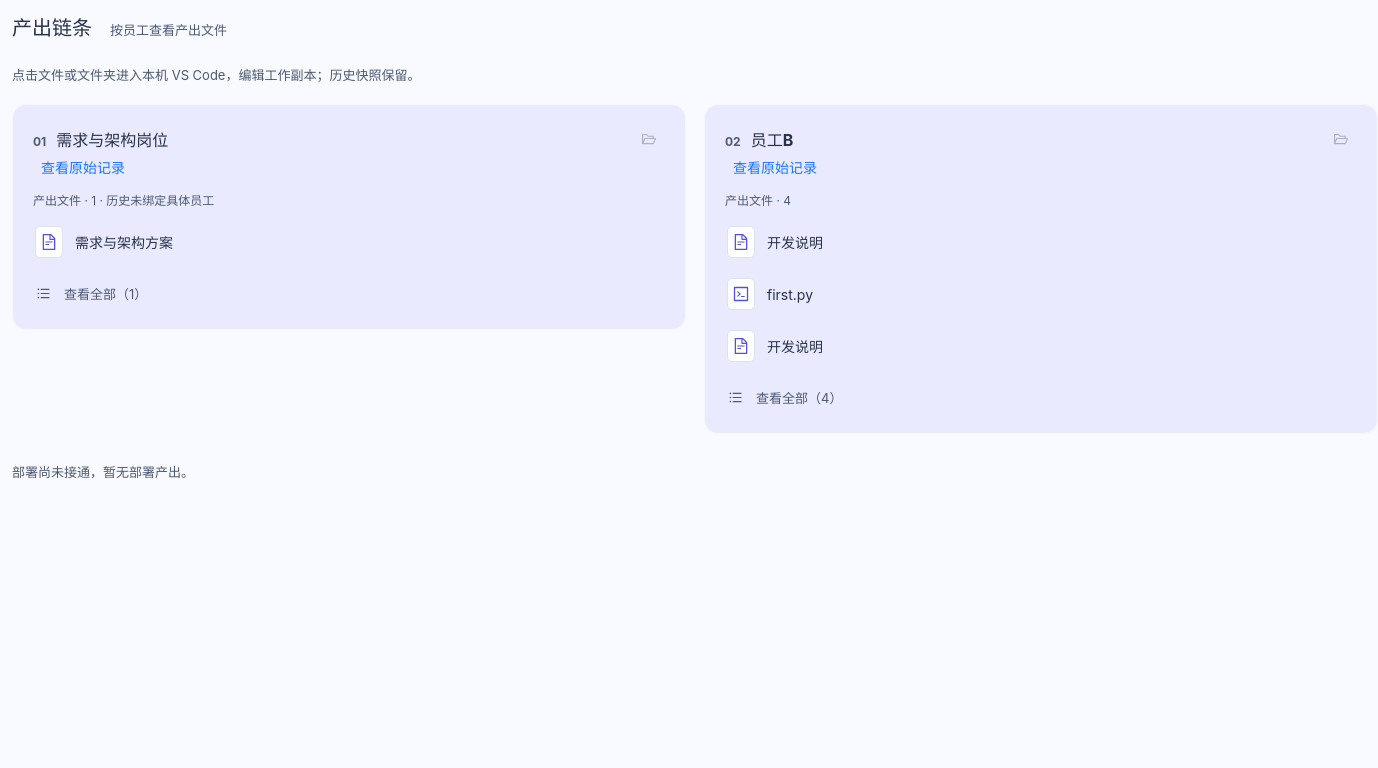
Test: 员工产出链 › 同一员工的多轮文件归入一个员工标题
The width and height of the screenshot is (1378, 768).
Check: the number of headings "02员工B" is 1, box [725, 127, 793, 151]
Check: the text "first.py" is shown, box [767, 286, 813, 302]
Click the button "查看全部（4）".
click(786, 398)  # box [725, 380, 846, 415]
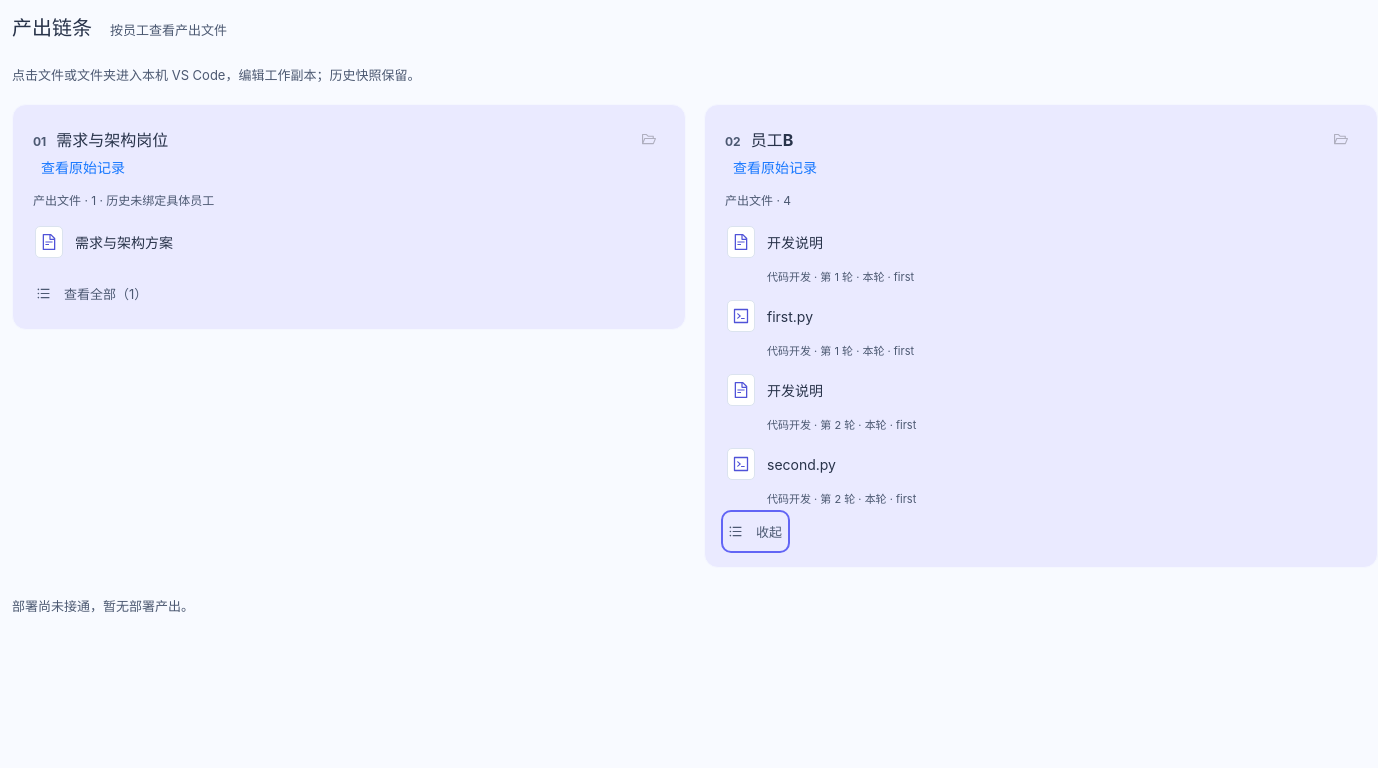
Check: the text "second.py" is shown, box [767, 456, 836, 472]
